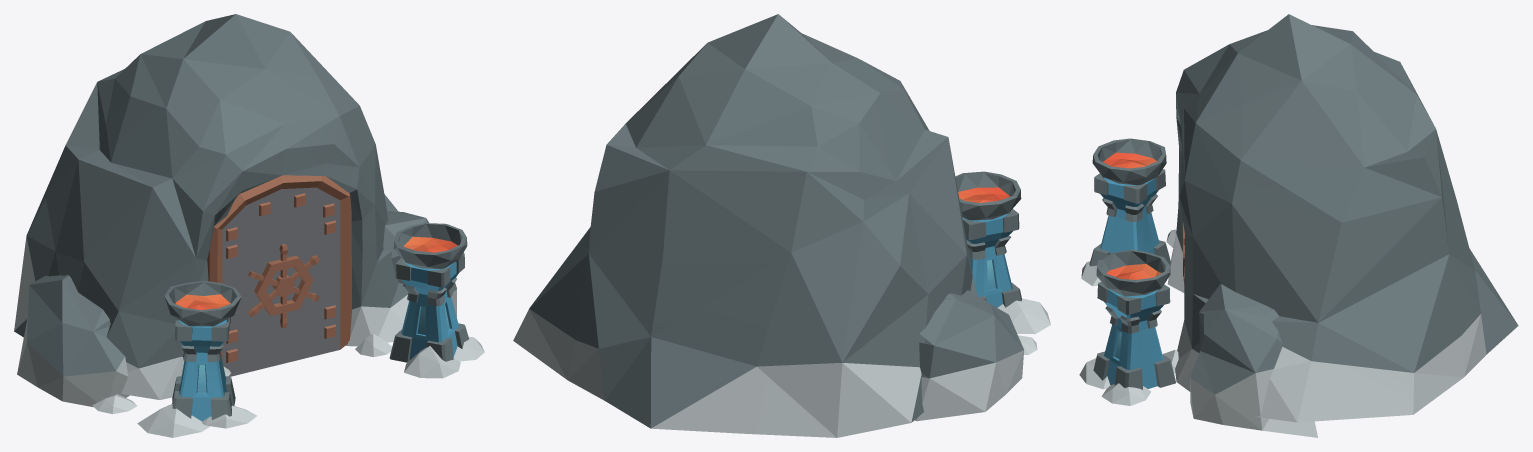
File: frostVault.fbx
The picture shows the model from 3 angles, left to right: view 1: azimuth 30°, elevation 25°; view 2: azimuth 150°, elevation 25°; view 3: azimuth 270°, elevation 25°; orthographic projection. The views are drawn at different scales.
Parts seen in each view (by area): view 1: frostVault; view 2: frostVault; view 3: frostVault.
Part boxes in pixels (x1,y1,x2,y2): frostVault: (14, 14, 484, 437); frostVault: (513, 14, 1050, 437); frostVault: (1079, 14, 1518, 437).
Bounding box in the file's own units: 2.71 × 2.08 × 2.51.
